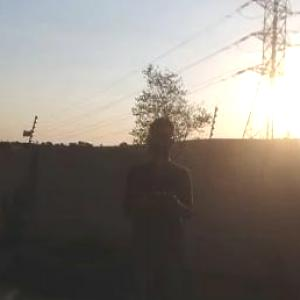follow: (116, 112, 198, 298)
